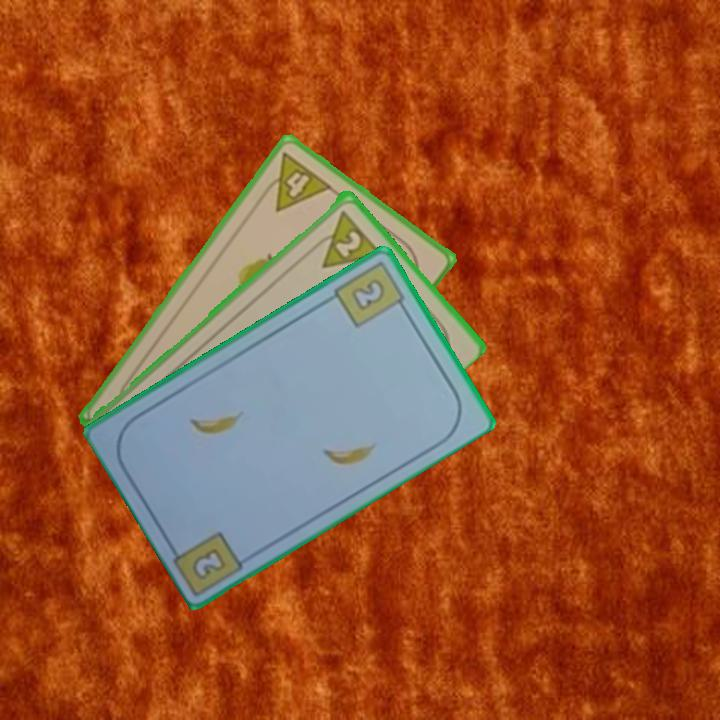2b: (330, 258, 411, 331), (188, 544, 230, 583)
2p: (305, 206, 384, 271)
4p: (255, 148, 335, 215)
